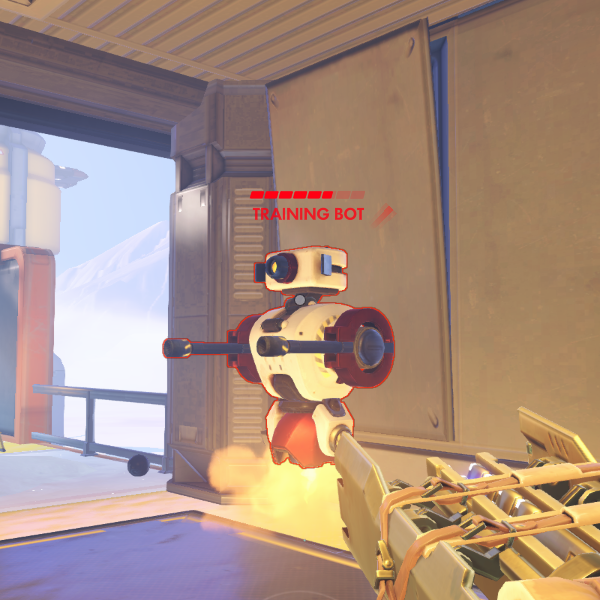hpbar: (249, 190, 366, 199)
